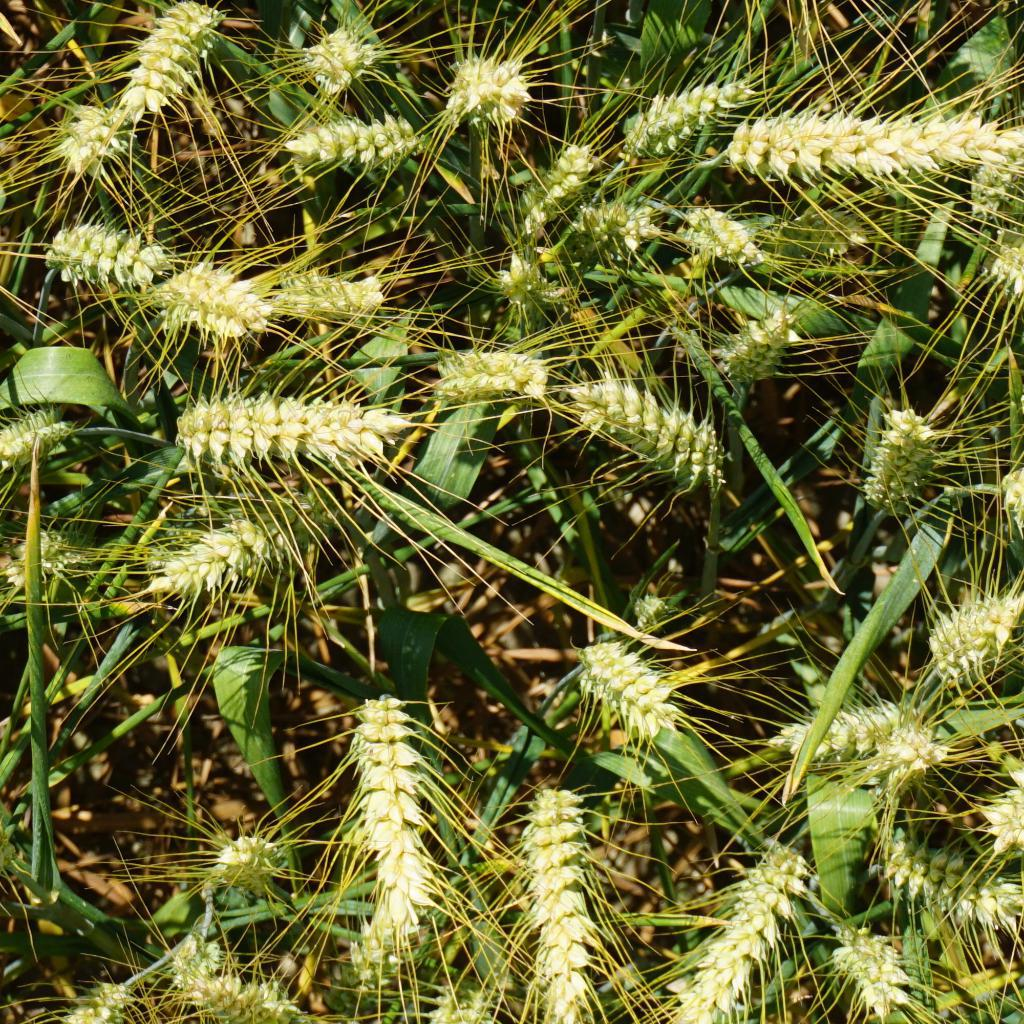0-0: (493, 766, 635, 1017), (327, 676, 470, 915), (672, 828, 824, 1024), (704, 102, 1024, 188), (166, 382, 414, 476), (566, 374, 742, 497), (872, 829, 1020, 937), (553, 637, 690, 744), (414, 327, 550, 422), (154, 256, 278, 346), (34, 207, 168, 290), (142, 0, 222, 118), (159, 519, 282, 593), (839, 913, 922, 1020), (286, 105, 417, 172), (919, 596, 1021, 678), (783, 707, 920, 766), (620, 78, 747, 140), (209, 809, 294, 901), (867, 399, 934, 510), (440, 49, 536, 124), (520, 139, 594, 233), (275, 269, 387, 322), (770, 202, 865, 264), (345, 909, 411, 998), (298, 18, 373, 89), (61, 97, 131, 169), (682, 208, 766, 266), (722, 309, 791, 378), (568, 203, 669, 248), (40, 979, 135, 1024), (0, 397, 65, 462), (197, 977, 285, 1024), (2, 525, 73, 582), (1000, 463, 1024, 624), (996, 734, 1024, 866), (880, 731, 938, 791), (963, 159, 1024, 215), (983, 229, 1024, 310), (169, 931, 225, 988), (496, 249, 554, 301), (0, 798, 26, 894), (621, 584, 680, 626), (425, 988, 481, 1024), (526, 1008, 580, 1024)
